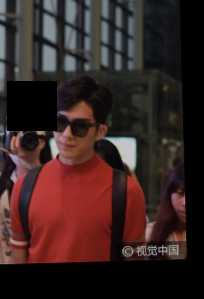without_mask: (52, 110, 97, 158), (171, 185, 186, 222)
